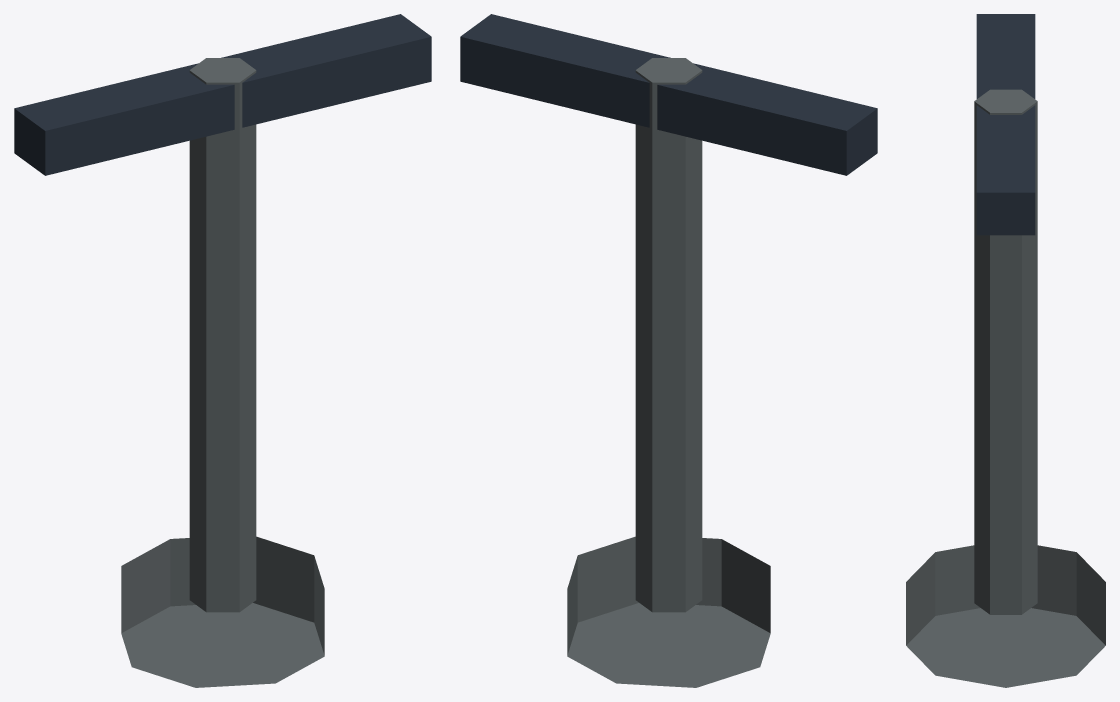
The model's file is cheque_stand.glb.
3 views of the same model, side by side, from view 1: azimuth 30°, elevation 25°; view 2: azimuth 150°, elevation 25°; view 3: azimuth 270°, elevation 25° (orthographic). The views are drawn at different scales.
Bounding box in the file's own units: 0.72 × 1.02 × 0.34.
1 material, 1 textured.
